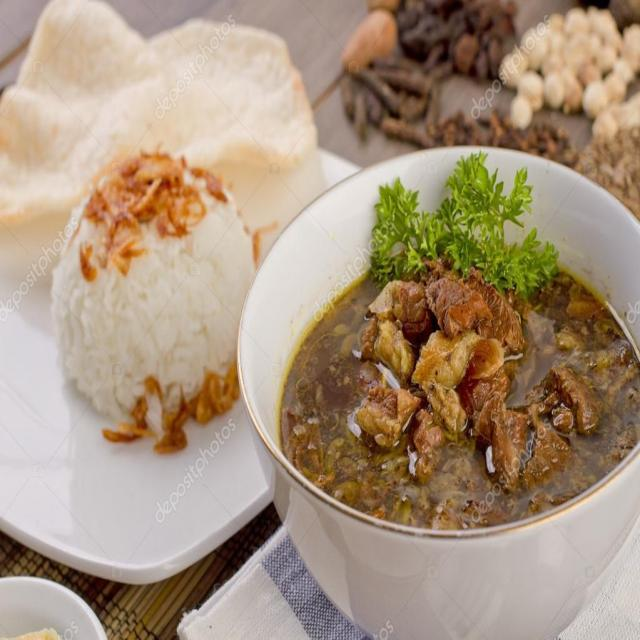Rawon: (279, 230, 640, 527)
